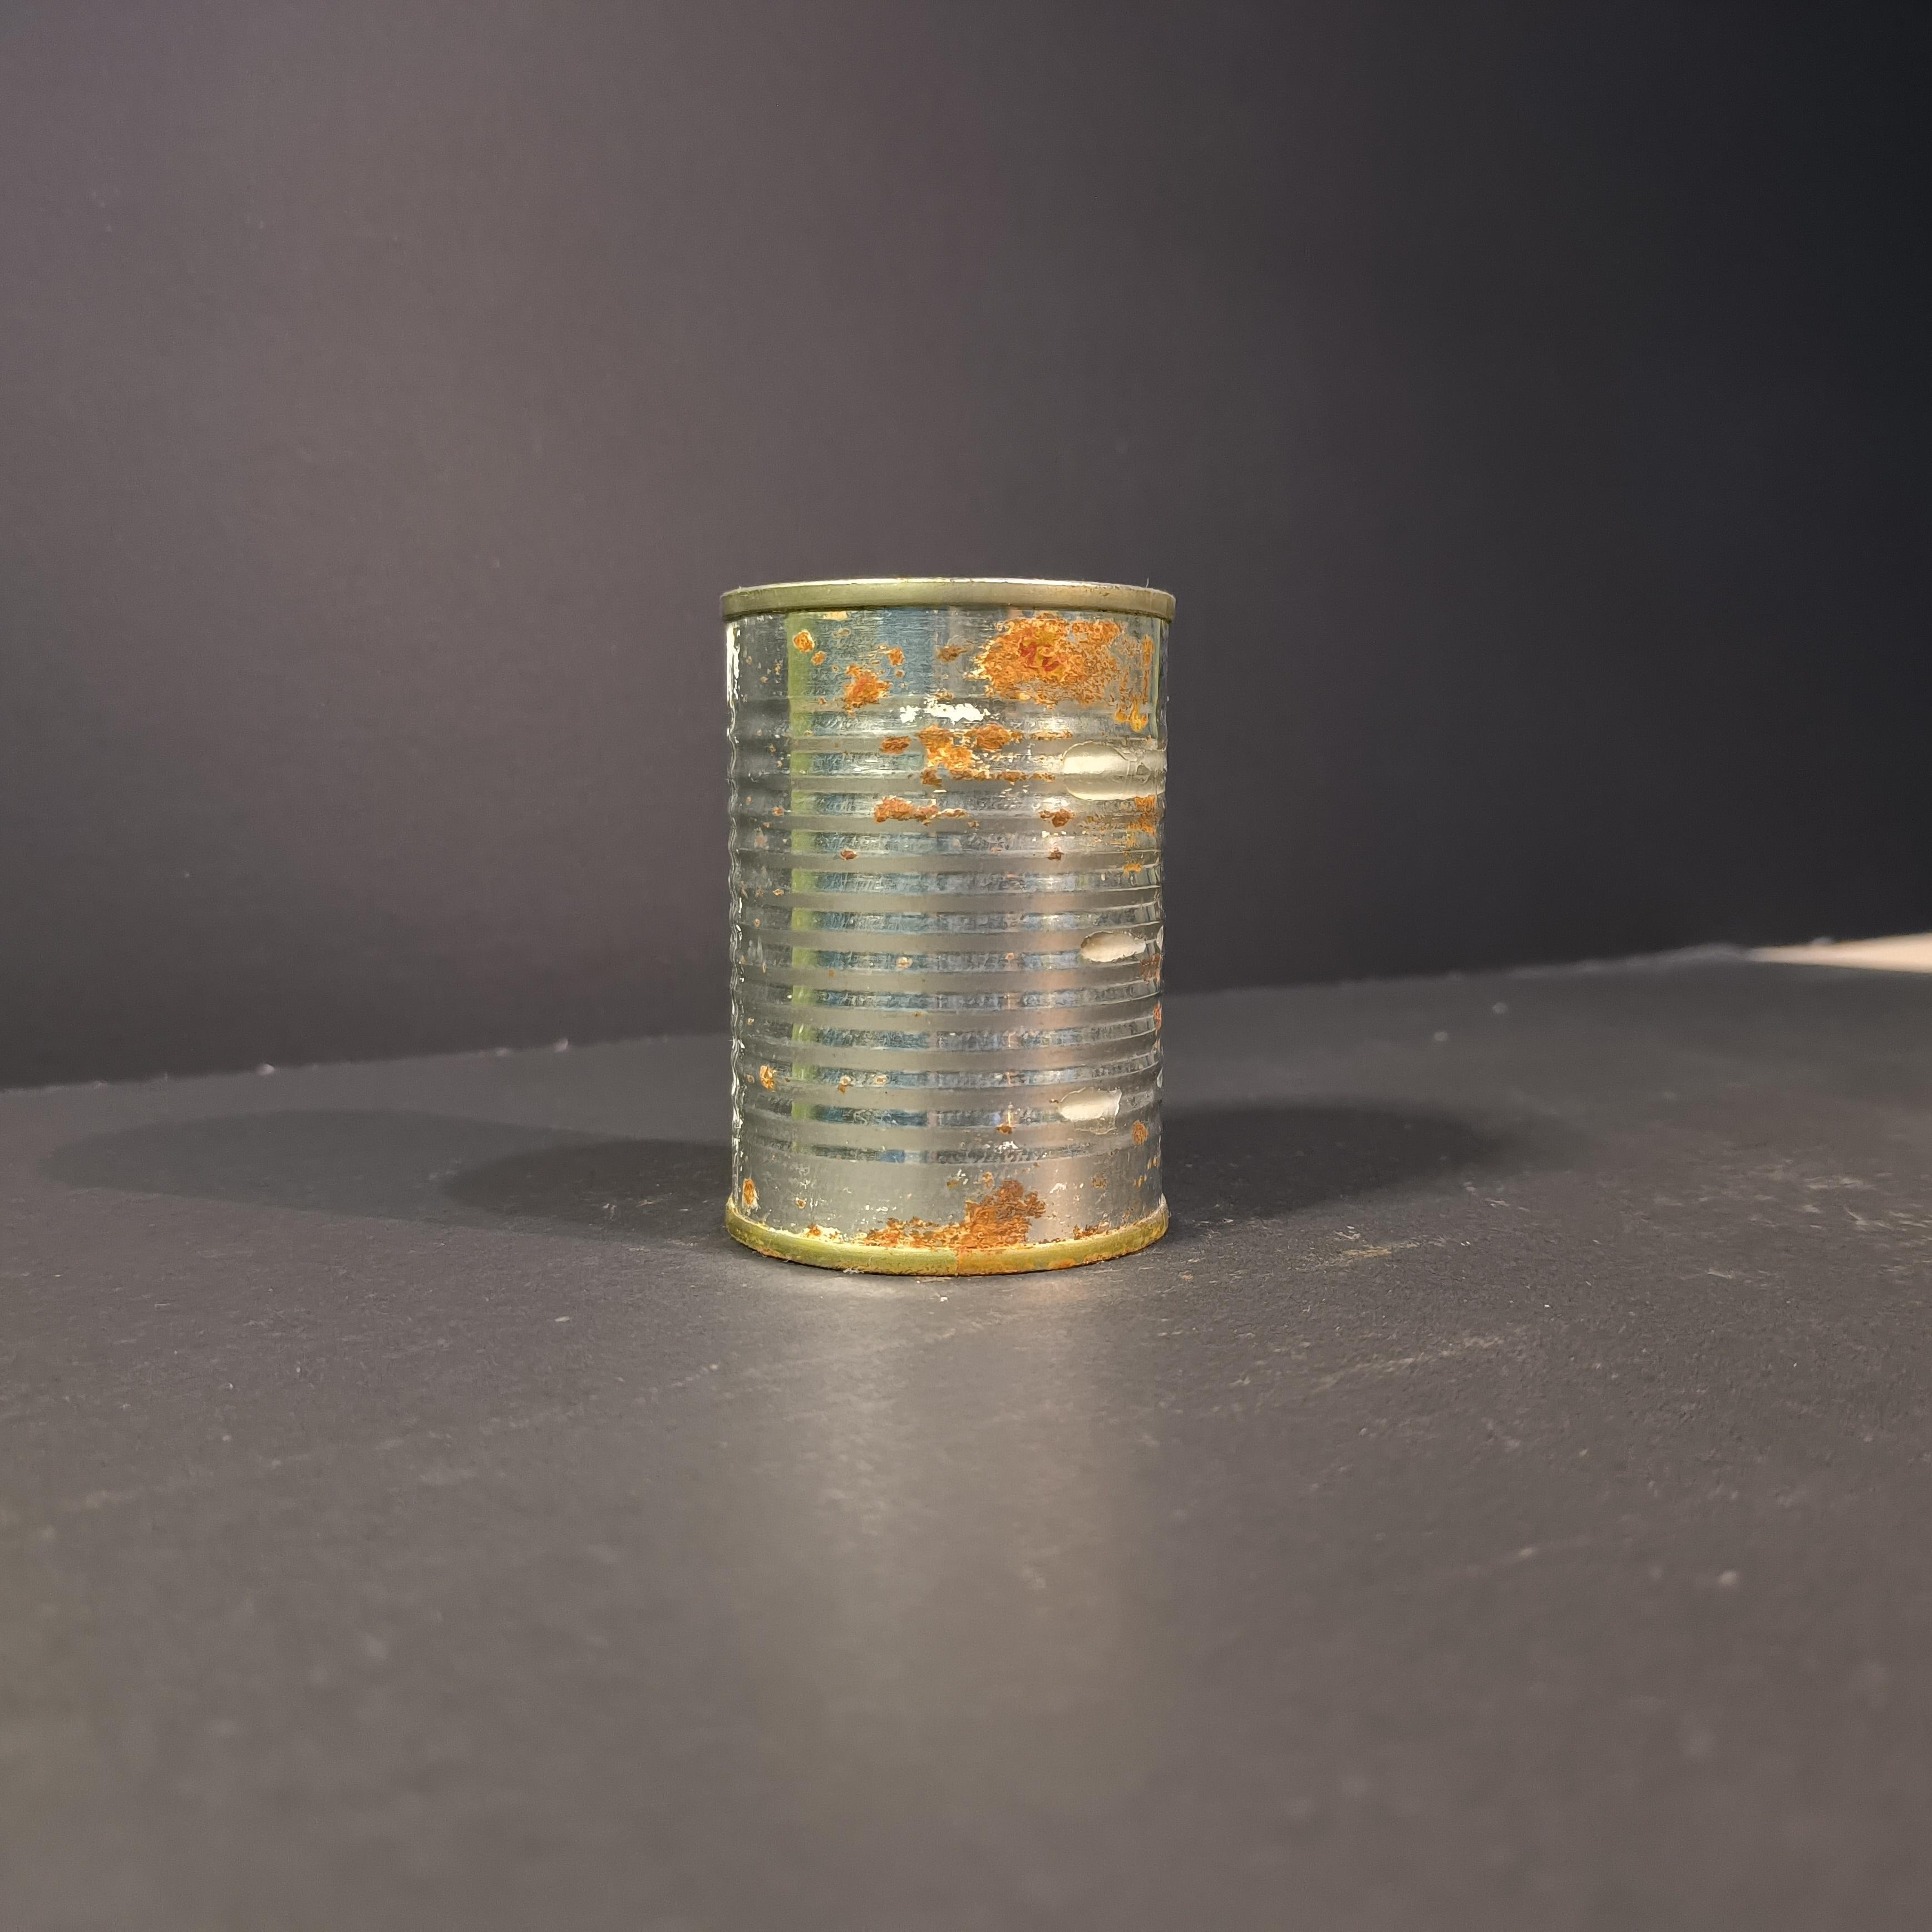Rusted: (685, 554, 1194, 1306)
